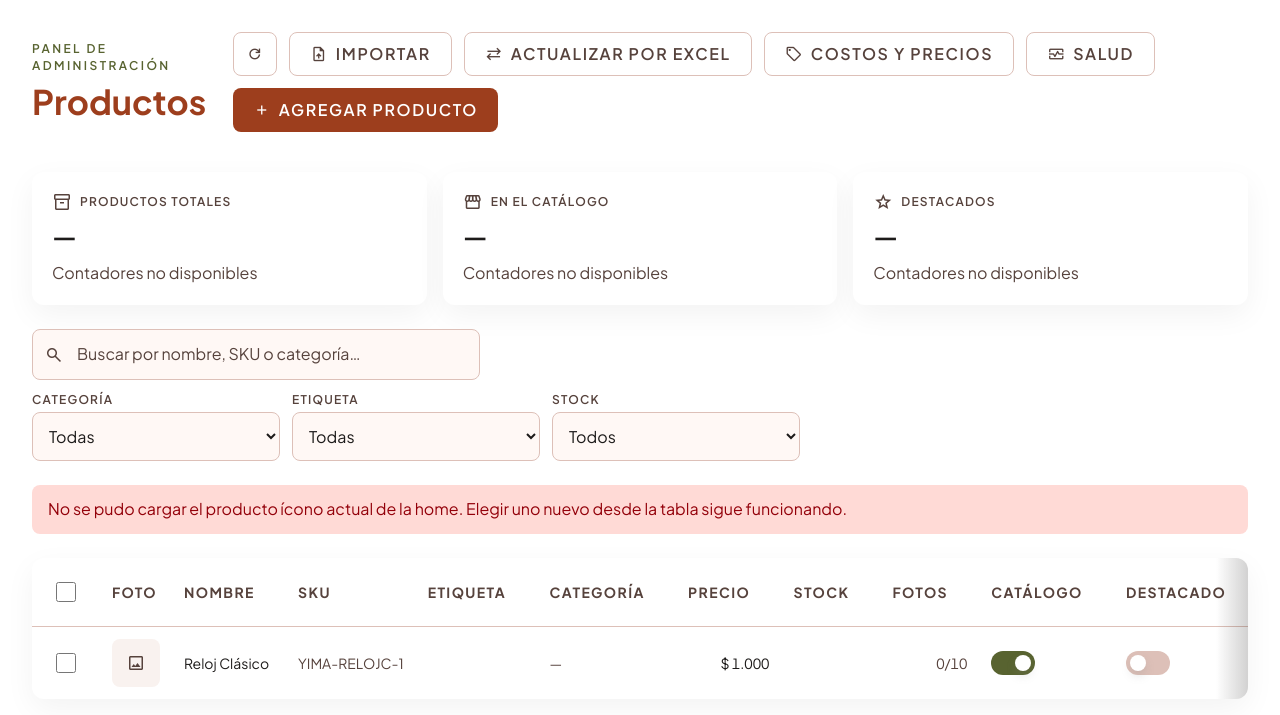
AdminProductos - filtros de la tabla › cambiar un filtro limpia la selección de checkboxes
Expected: the text "Reloj Clásico" is shown, [184,653,274,673]
Click the checkbox named "Seleccionar Reloj Clásico": click(66, 663) [56,653,76,673]
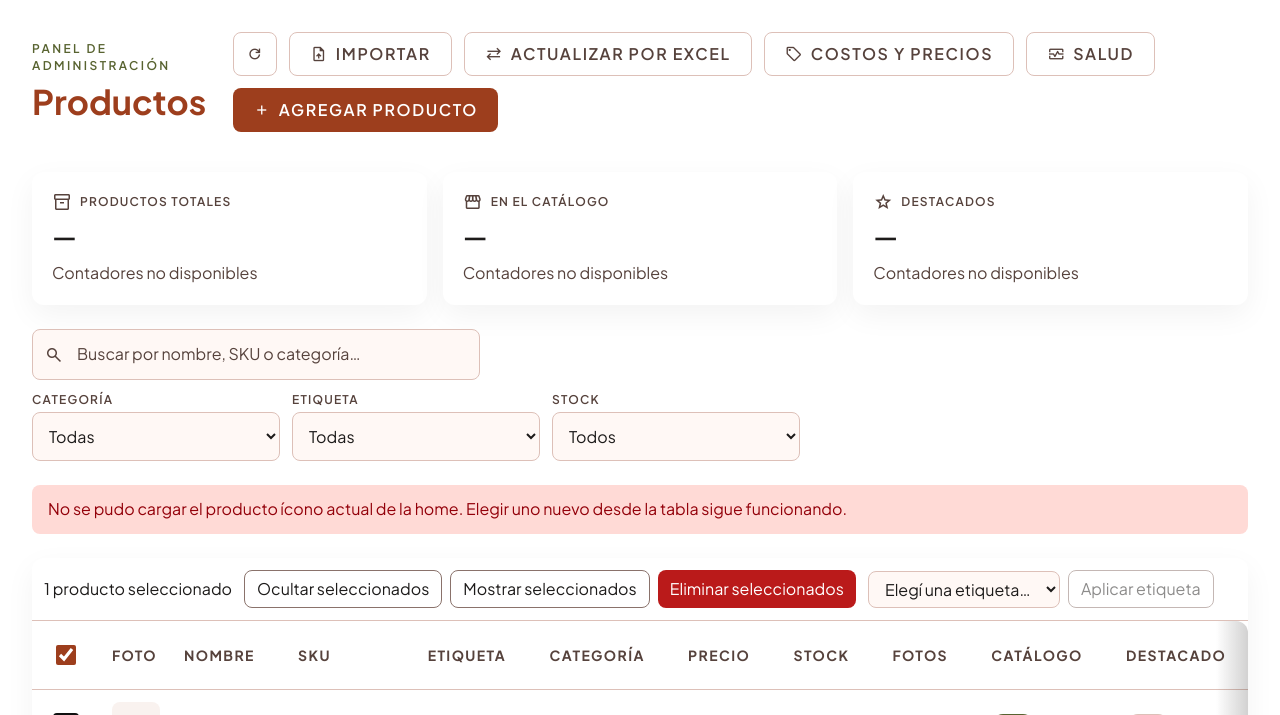
Select "Stock bajo (<3)" in the dropdown labelled "Stock": (676, 437) [552,412,800,461]
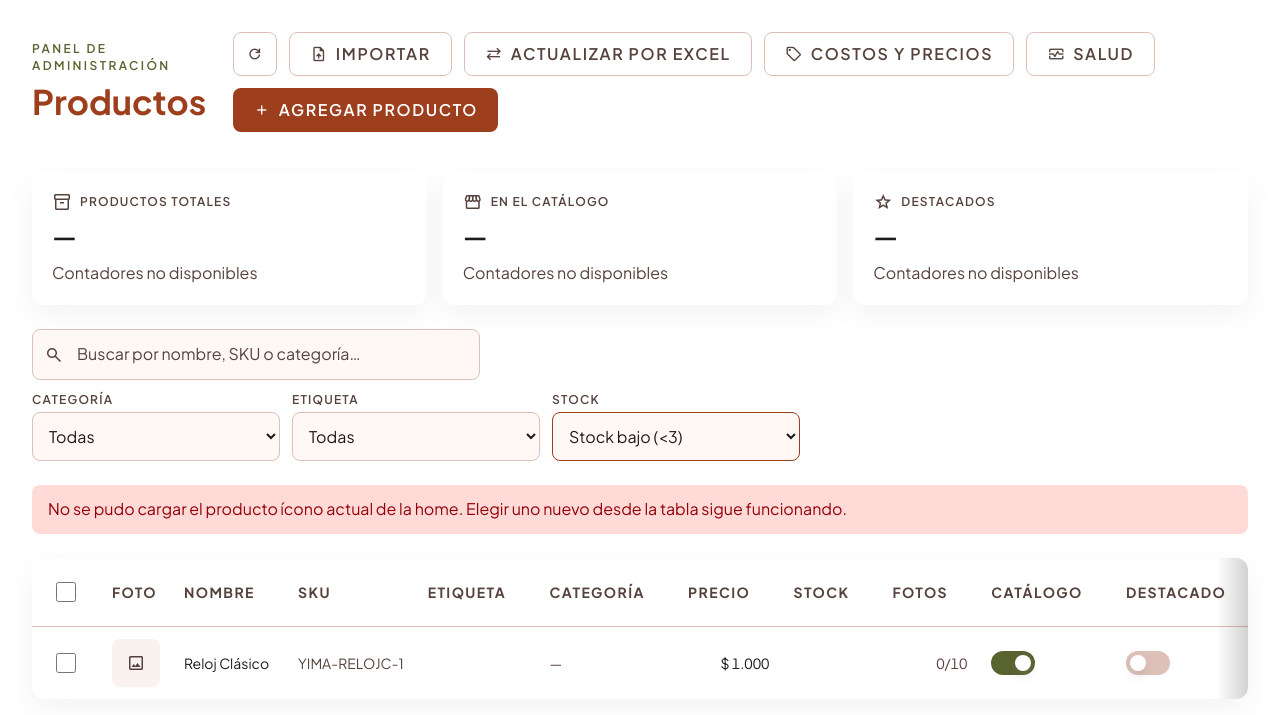
Now the checkbox named "Seleccionar Reloj Clásico" is not checked, box [56,653,76,673]
